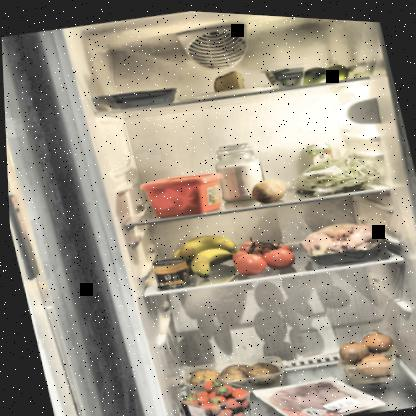banana: (169, 222, 244, 283)
butter: (138, 163, 229, 222)
cheese: (207, 63, 248, 95)
chicken: (294, 207, 392, 269)
corn: (147, 250, 190, 290)
green_beans: (282, 139, 385, 201)
heavy_cream: (304, 136, 334, 172)
lime: (293, 54, 353, 85)
onion: (331, 318, 406, 385)
potato: (181, 346, 288, 398)
strawberries: (170, 368, 253, 415)
sweet_potato: (245, 170, 288, 204)
tomato: (224, 223, 295, 277)
